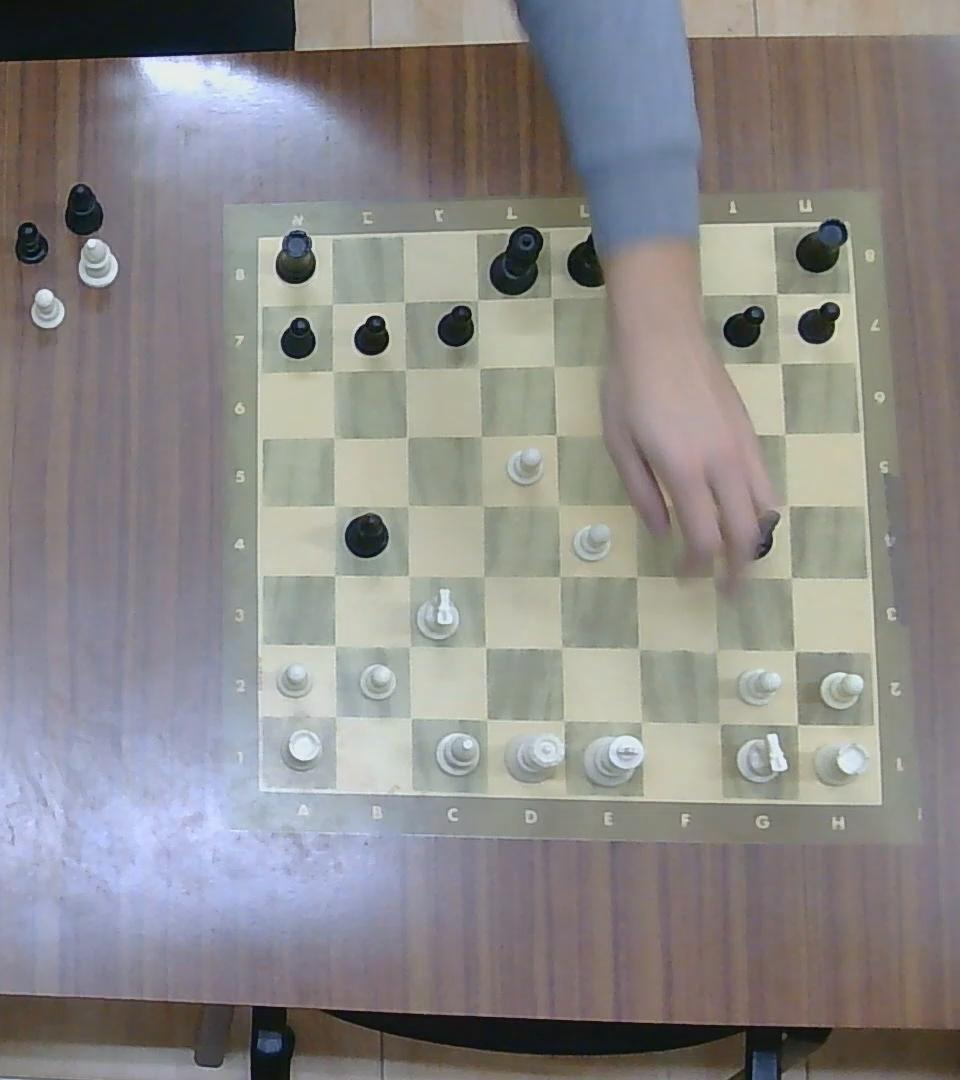xcorner: (701, 705, 735, 738), (621, 631, 654, 664), (545, 631, 577, 664), (777, 633, 810, 665), (624, 704, 656, 736), (780, 706, 812, 738), (470, 702, 501, 734), (547, 704, 578, 736), (469, 630, 500, 662), (699, 634, 731, 665), (319, 699, 350, 731), (394, 701, 424, 732), (776, 561, 806, 592), (698, 561, 728, 592), (393, 631, 423, 661), (544, 560, 574, 590), (469, 560, 498, 590), (621, 562, 651, 591), (320, 629, 349, 659), (393, 561, 423, 589), (543, 490, 573, 518), (320, 559, 348, 588), (469, 490, 497, 518), (622, 491, 651, 518), (393, 491, 421, 518), (317, 290, 345, 317), (774, 491, 802, 518), (543, 420, 571, 447), (538, 283, 566, 310), (698, 490, 725, 518), (464, 285, 491, 312), (319, 421, 345, 448), (611, 281, 637, 308), (393, 422, 419, 448), (318, 356, 344, 382), (467, 422, 493, 448), (772, 420, 798, 446), (322, 491, 348, 517), (692, 422, 718, 448), (615, 352, 640, 379), (616, 421, 641, 448), (543, 353, 568, 378), (466, 353, 491, 378), (390, 288, 415, 312), (765, 281, 790, 305), (687, 284, 712, 308), (688, 353, 712, 378), (768, 350, 792, 374), (391, 356, 415, 379)
